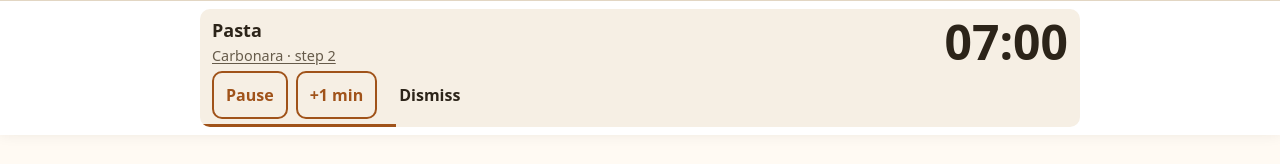
Test case: TimersProvider + TimerDock › ticks from the clock and pauses / resumes
The image size is (1280, 164).
Check: the text "07:00" is shown, box [944,9,1068,74]
Click the button "Pause": (250, 95) [212,71,288,119]
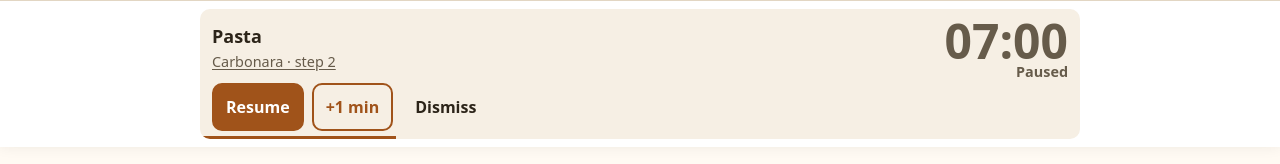
Check: the text "07:00" is shown, box [944,9,1068,73]
Check: the text with class "timer__status" reads "Paused", box [1016,62,1068,81]
Click the button "Resume": (258, 107) [212,83,304,131]
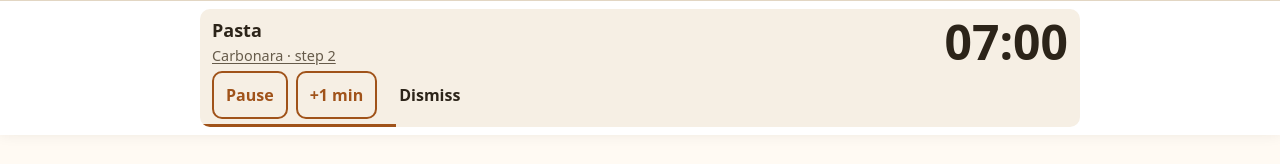
Click the button "+1 min": (336, 95) [296,71,377,119]
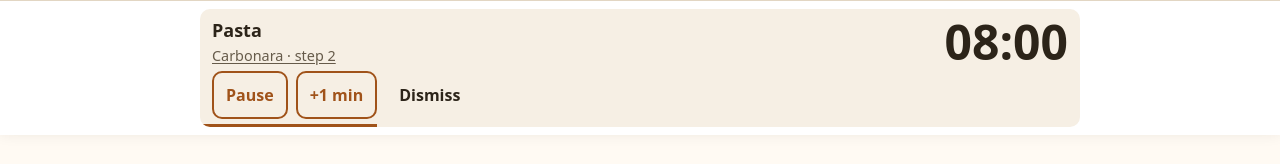
Check: the text "08:00" is shown, box [944,9,1068,74]
